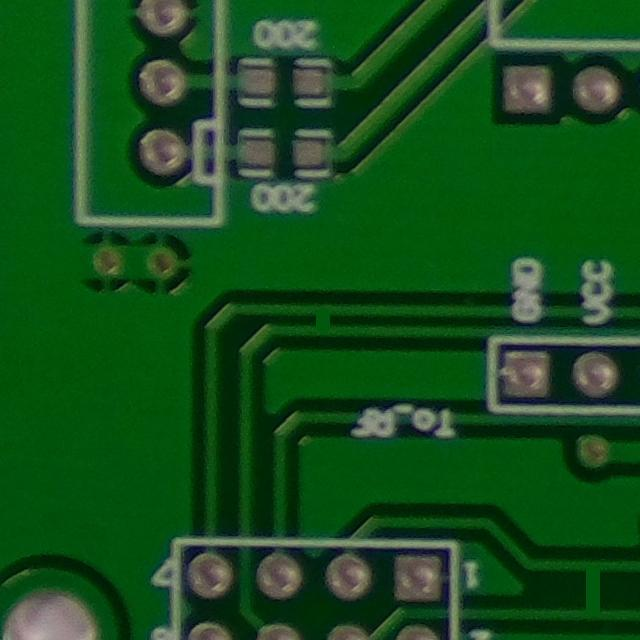short: (286, 295, 355, 346)
